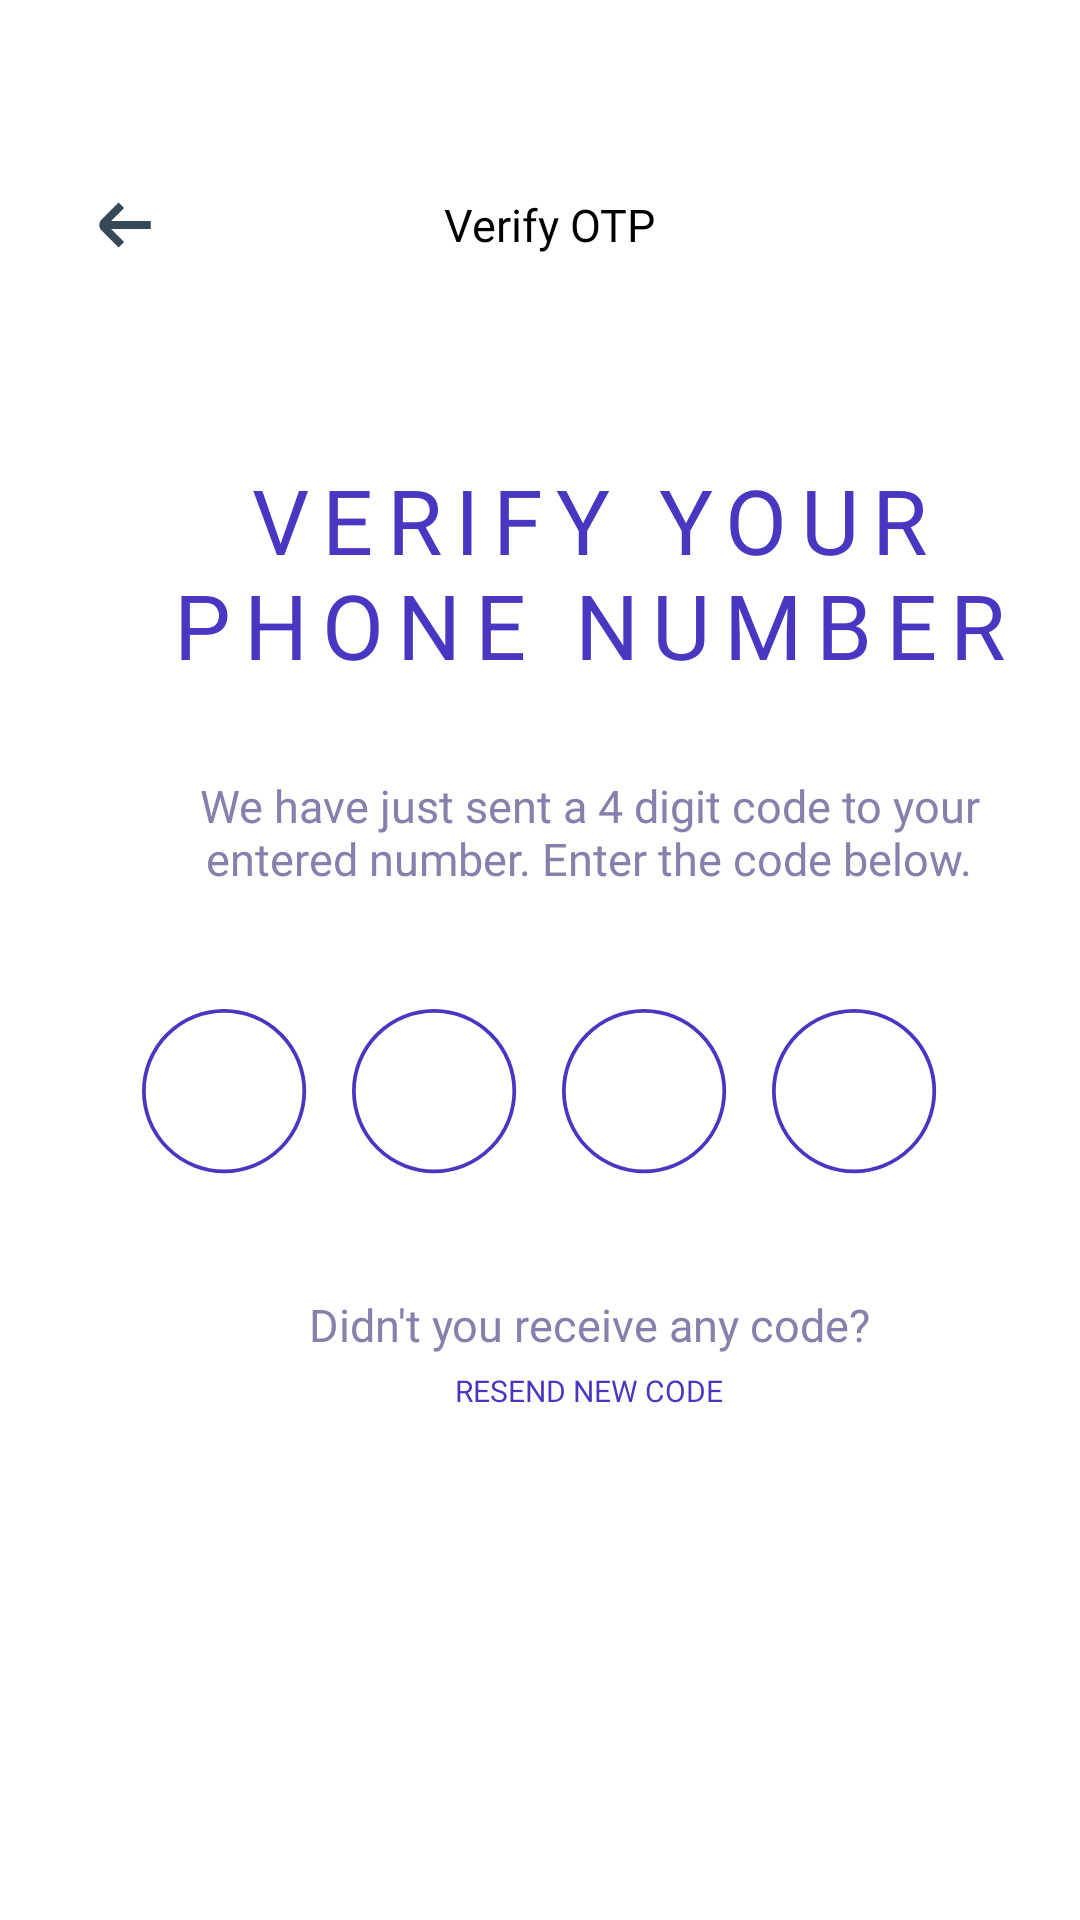

Icon bounding boxes for this 1080×1920 phone screenshot, format {"left": x1, "top": y1, "right": x2, "bottom": y2}:
btnback: {"left": 99, "top": 202, "right": 151, "bottom": 248}
